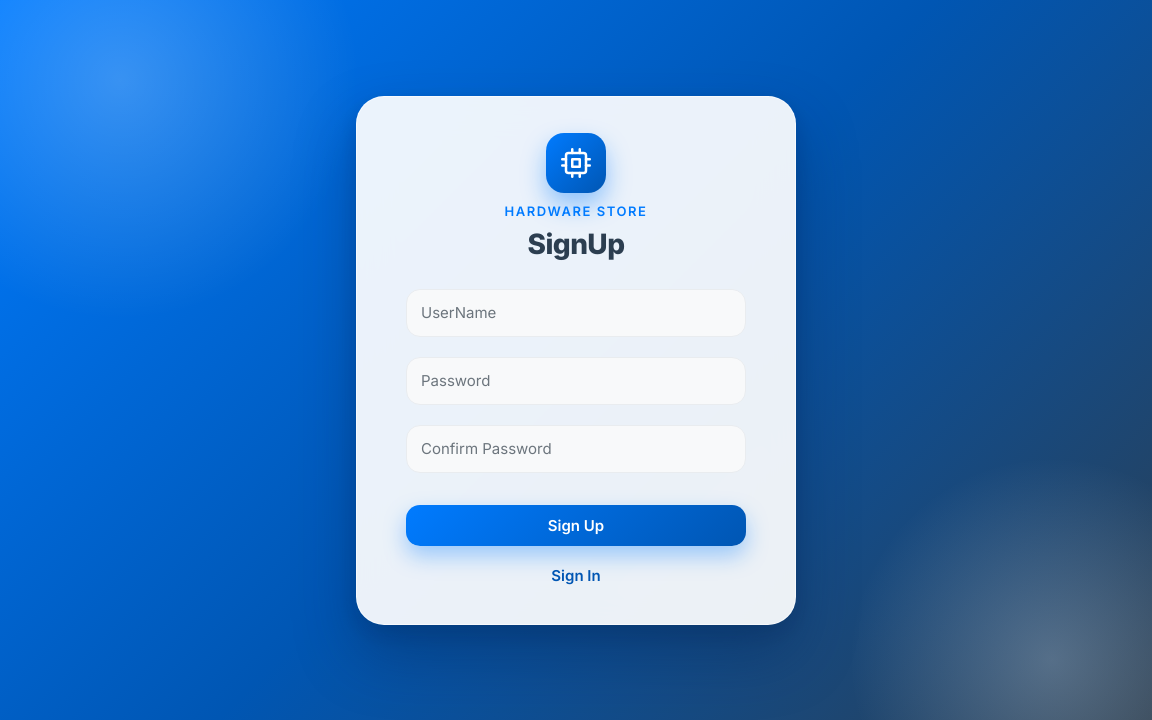
Test: SignUp › ошибка при коротком пароле (< 8)
This screenshot has width=1152, height=720.
Type "user" into the field labelled "UserName".
click(576, 312); type("user")  # box [406, 288, 746, 336]
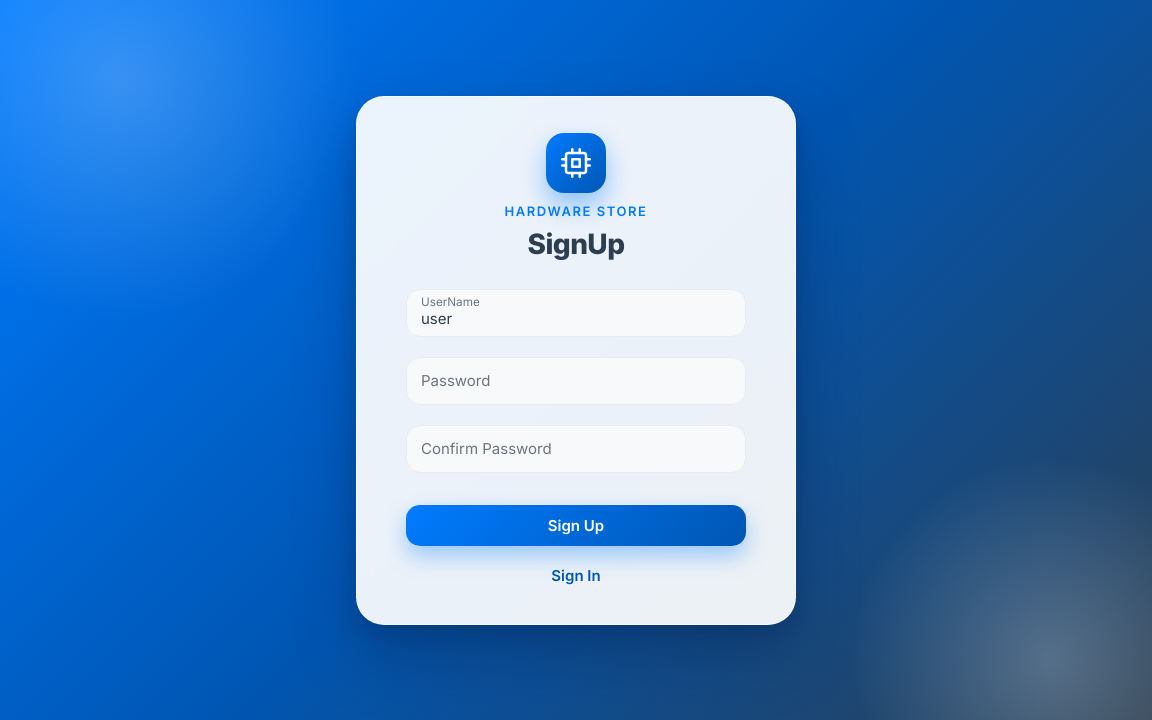
Type "123" into the password field labelled "Password".
click(576, 380); type("123")  # box [406, 356, 746, 404]
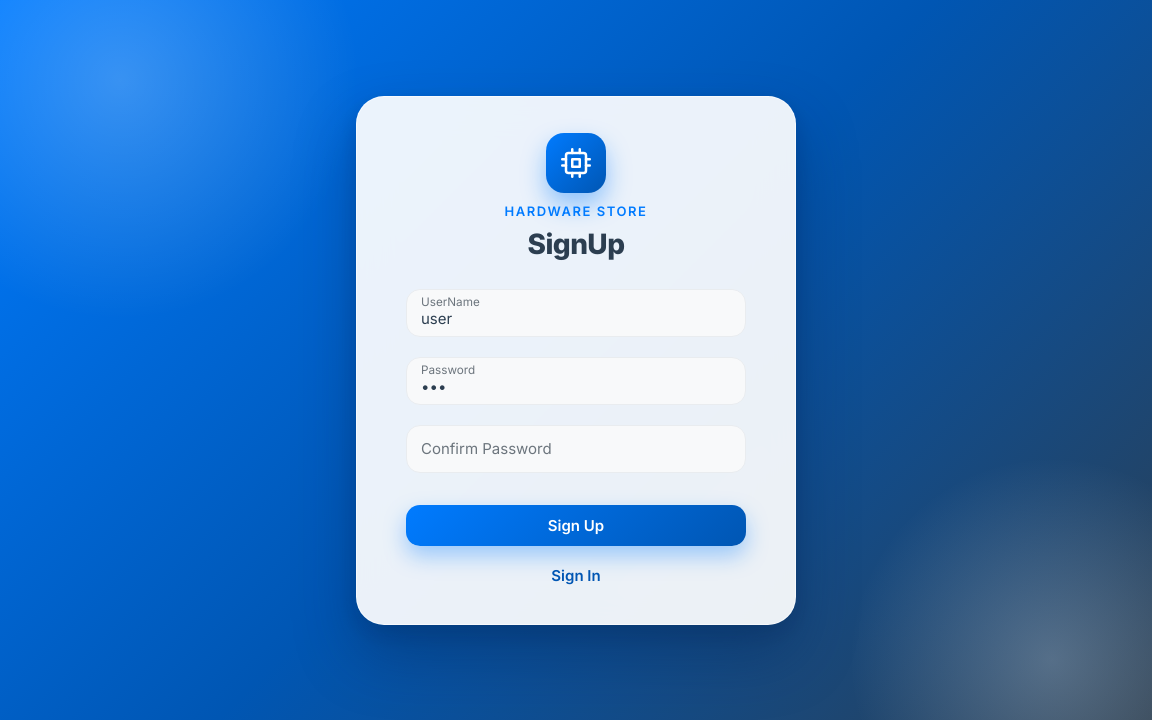
Type "123" into the password field labelled "Confirm Password".
click(576, 448); type("123")  # box [406, 424, 746, 472]
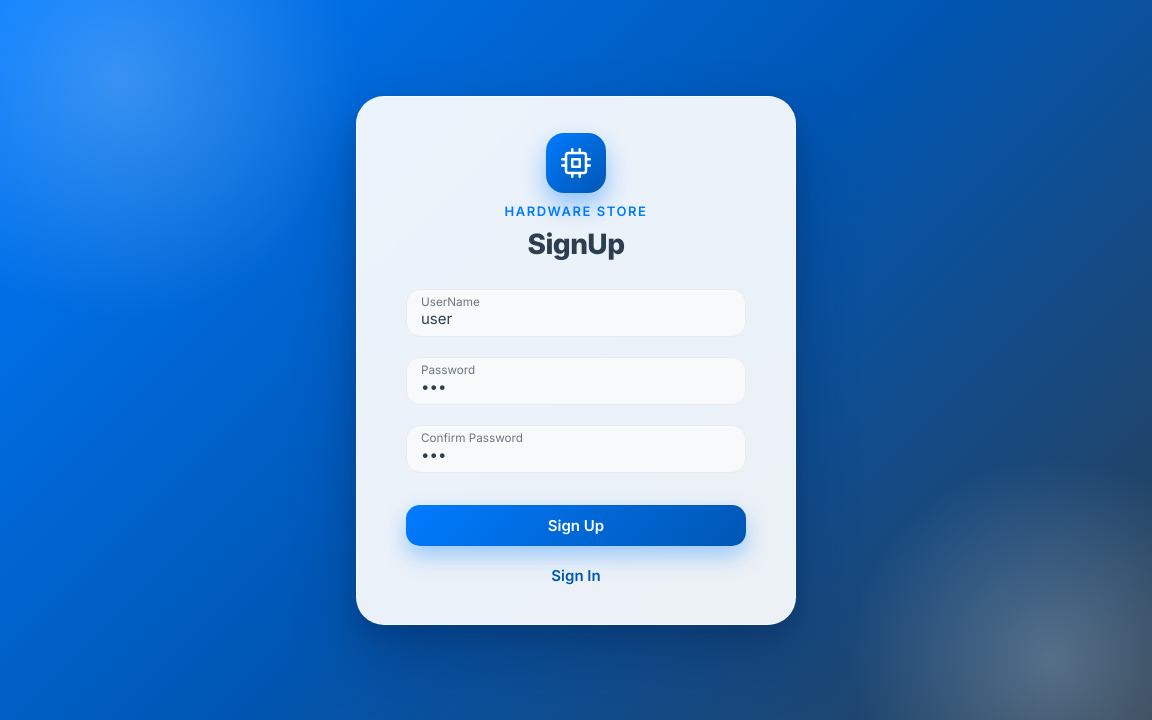
Click the button "Sign Up".
click(576, 525)  # box [406, 504, 746, 546]
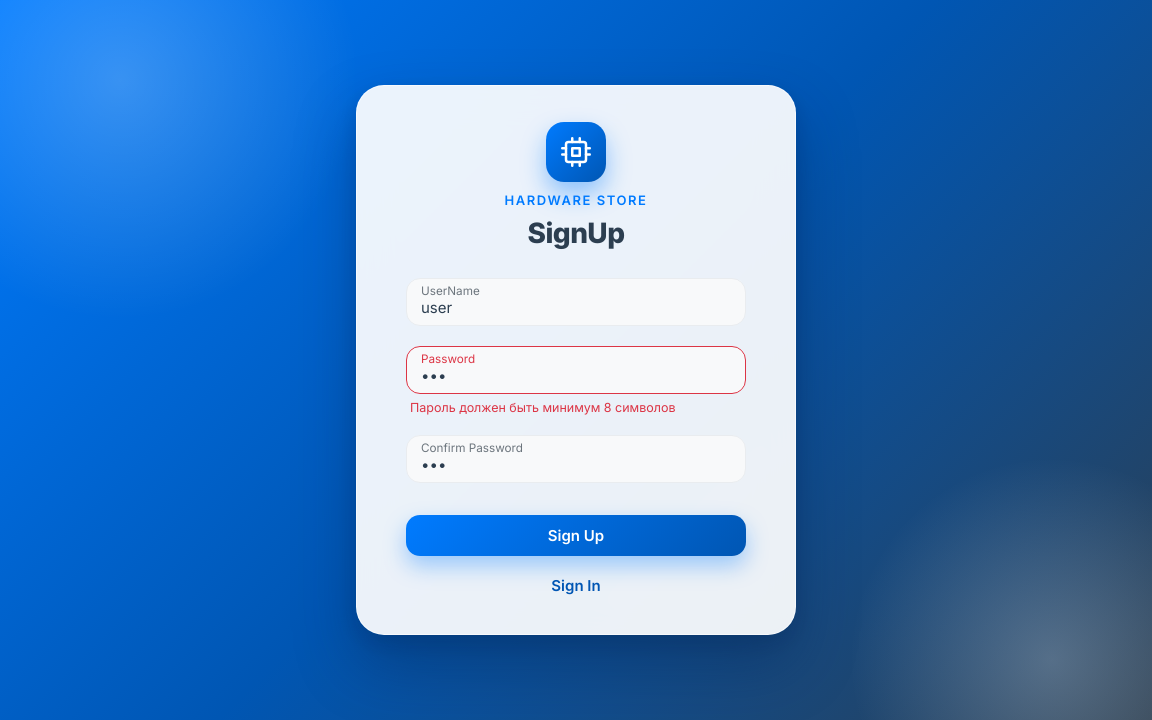
Now the text "Пароль должен быть минимум 8 символов" is shown, box [410, 400, 676, 415]
